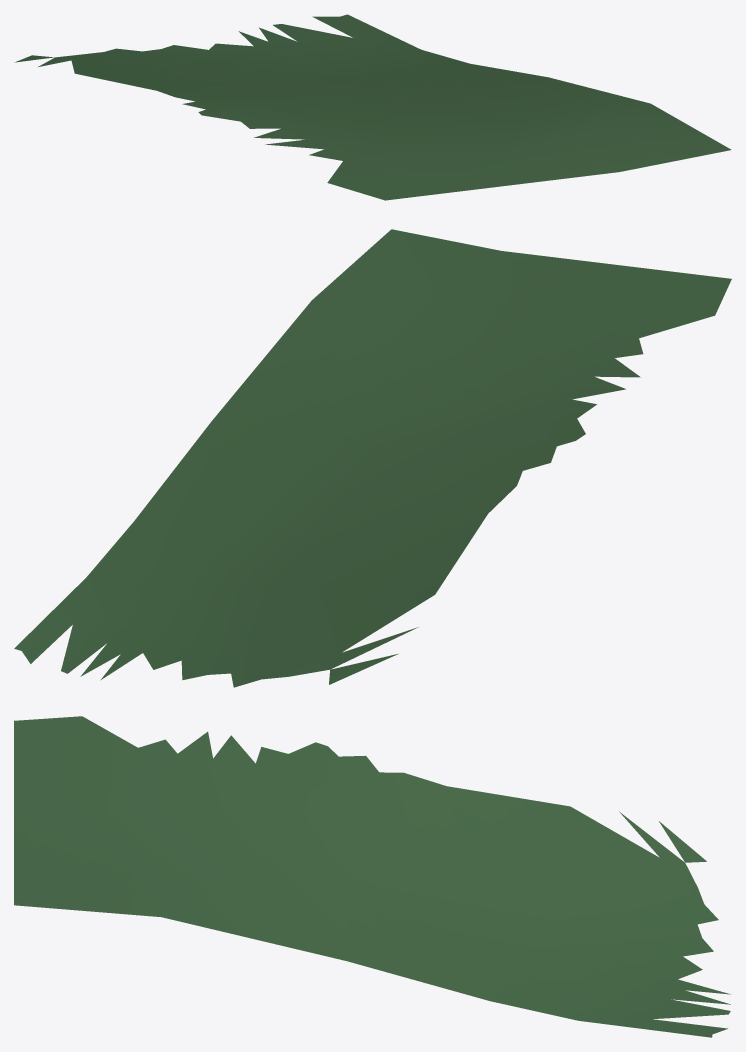
Rendered from payo_land_xm5_y10_lod2.glb.
3 renders of one model, top to bottom at view 1: azimuth 30°, elevation 25°; view 2: azimuth 150°, elevation 25°; view 3: azimuth 270°, elevation 25°, orthographic. The views are drawn at different scales.
Visible parts, largest first — view 1: payo_land_xm5_y10; view 2: payo_land_xm5_y10; view 3: payo_land_xm5_y10.
Boxes of the visible parts, <box> form: payo_land_xm5_y10: <box>14,14,731,200</box>; payo_land_xm5_y10: <box>14,229,731,687</box>; payo_land_xm5_y10: <box>14,716,731,1037</box>.
Bounding box in the file's own units: 136 × 64.45 × 253.
